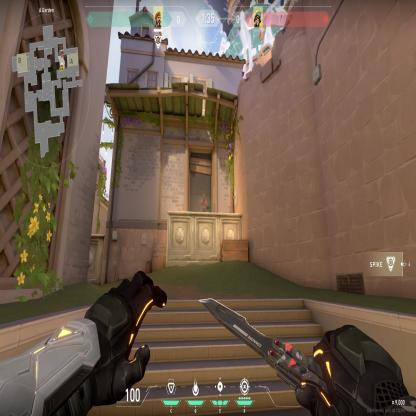enemy: (199, 191, 208, 214)
